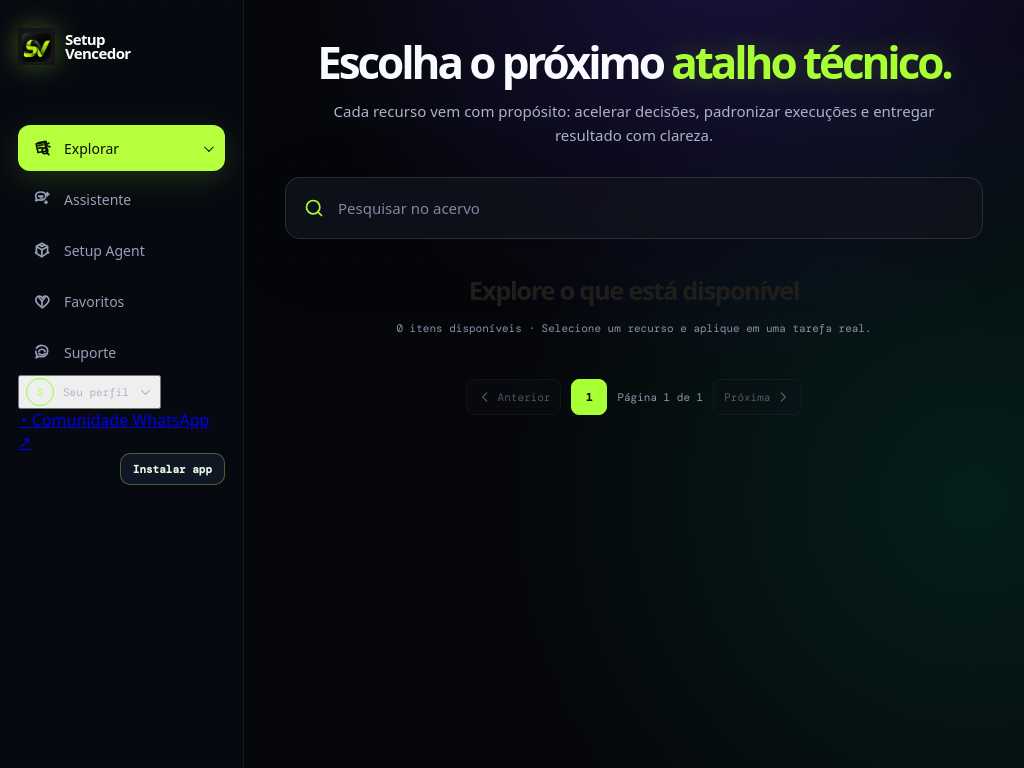
Test: shows the dedicated assistant composer without catalog cards before a request
Step 1. Click the button "Assistente" → (122, 199), box [18,176,225,222]
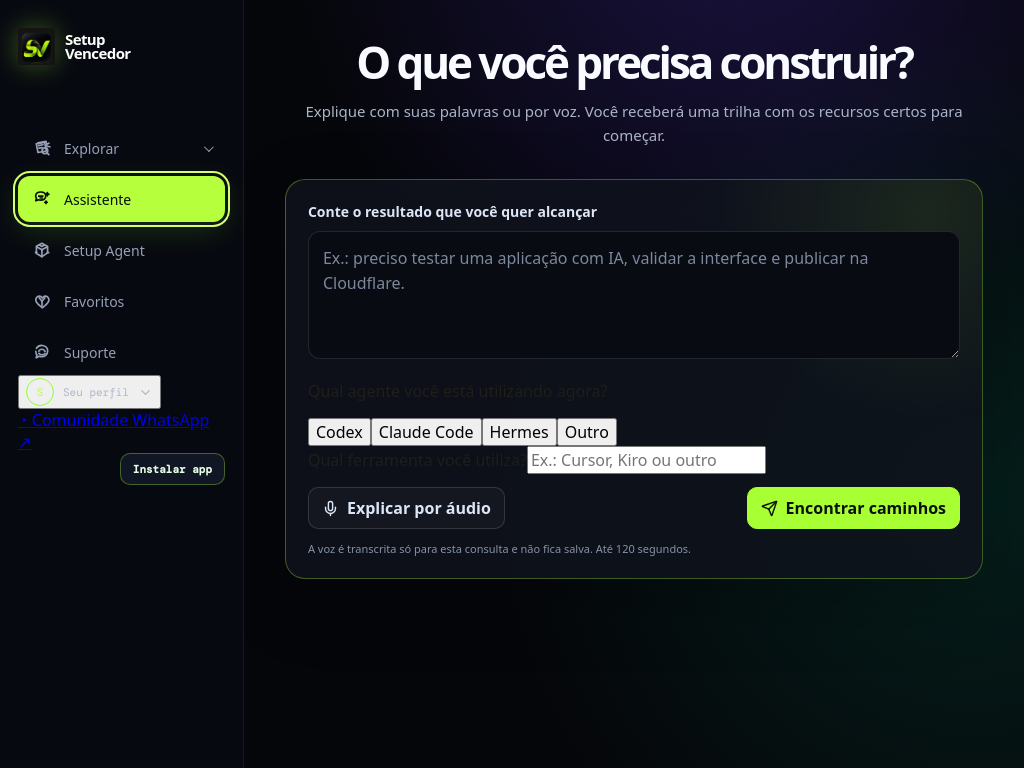
Check: the text box labelled "Conte o resultado que você quer alcançar" is shown, box [308,231,960,359]
Check: the button "Explicar por áudio" is shown, box [308,487,505,529]
